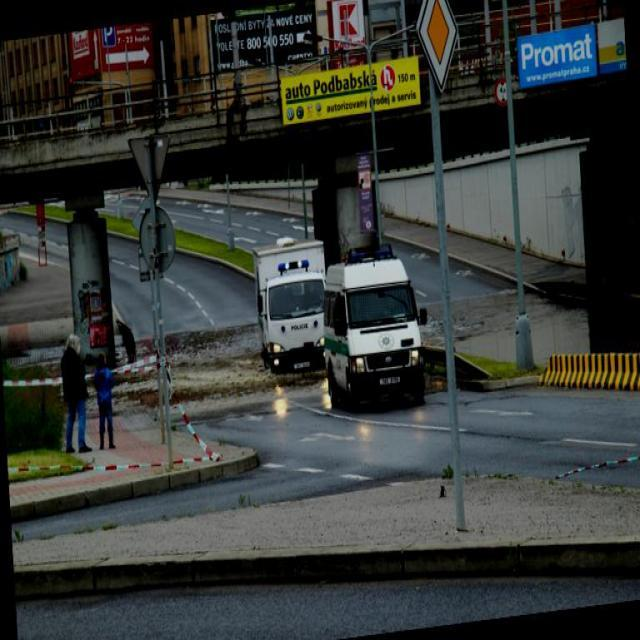flood: (111, 319, 268, 416)
